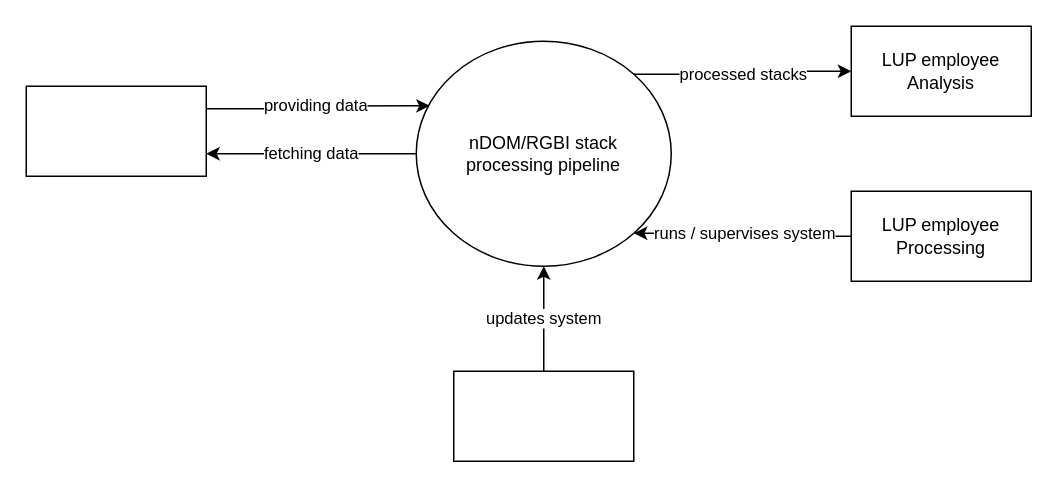
The diagram is 1058 pixels wide and 488 high, and some of its shapes have lost their labels. Each missing label, with the centre of its shape:
"LUP employee IT" belongs at point 543,415.
"Municipalities / cities" belongs at point 115,130.
